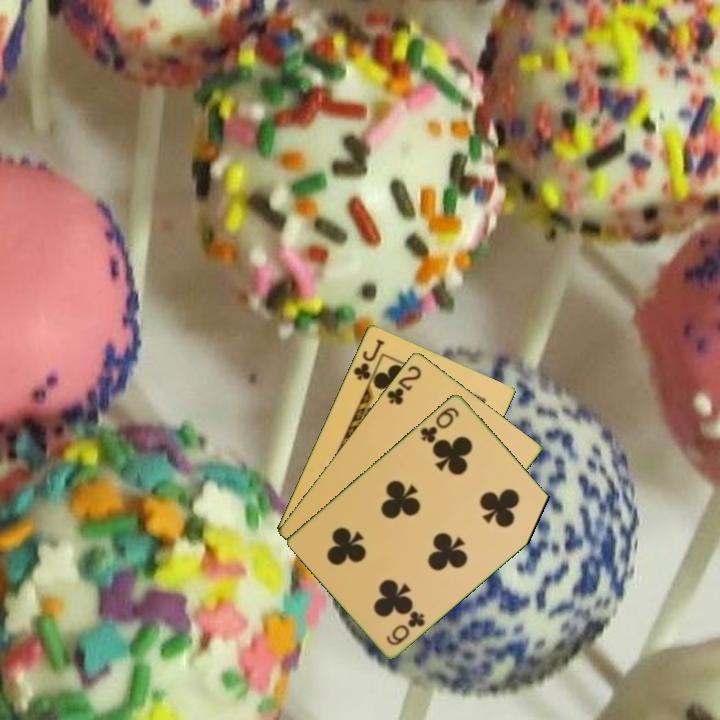2c: (383, 361, 424, 408)
6c: (417, 403, 462, 446), (383, 607, 428, 648)
Jc: (350, 335, 387, 383)
